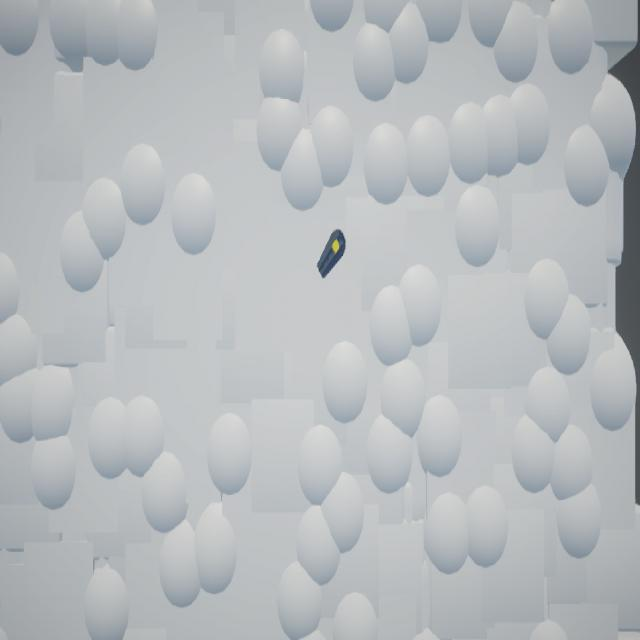handle_folk: (318, 229, 348, 280)
